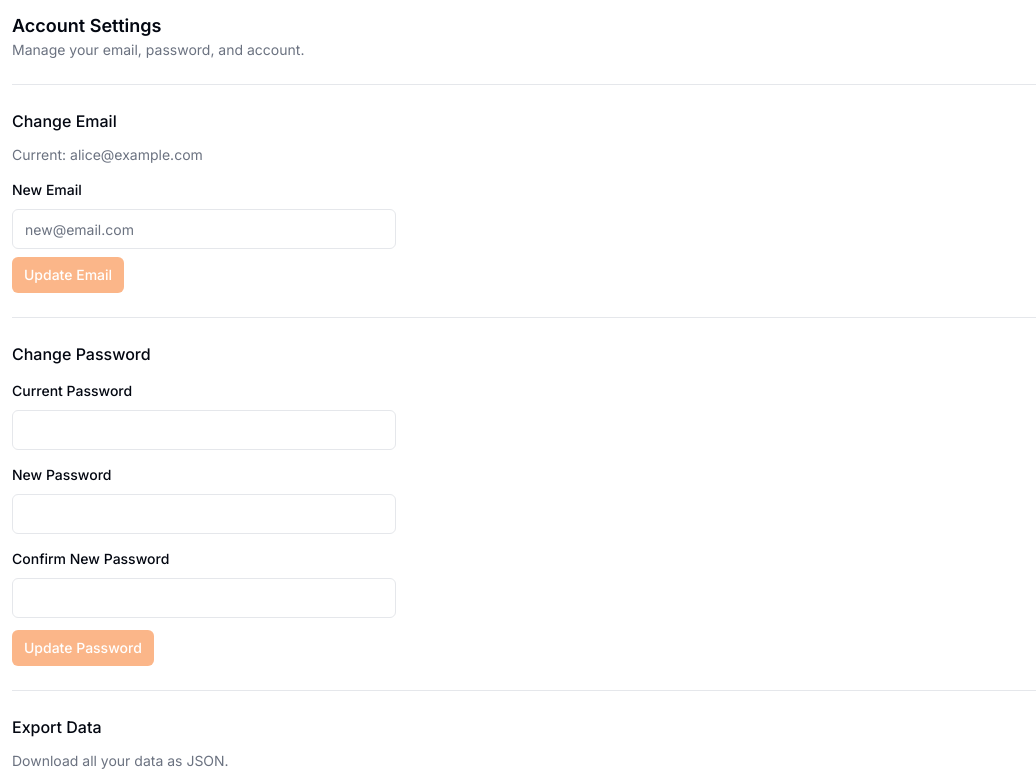
Scenario: AccountSettings › shows password strength indicator when password entered
The image size is (1036, 780).
Type "Str0ng!Pass@123" into the password field labelled "New Password".
click(204, 514); type("Str0ng!Pass@123")  # box x1=12 y1=494 x2=396 y2=534
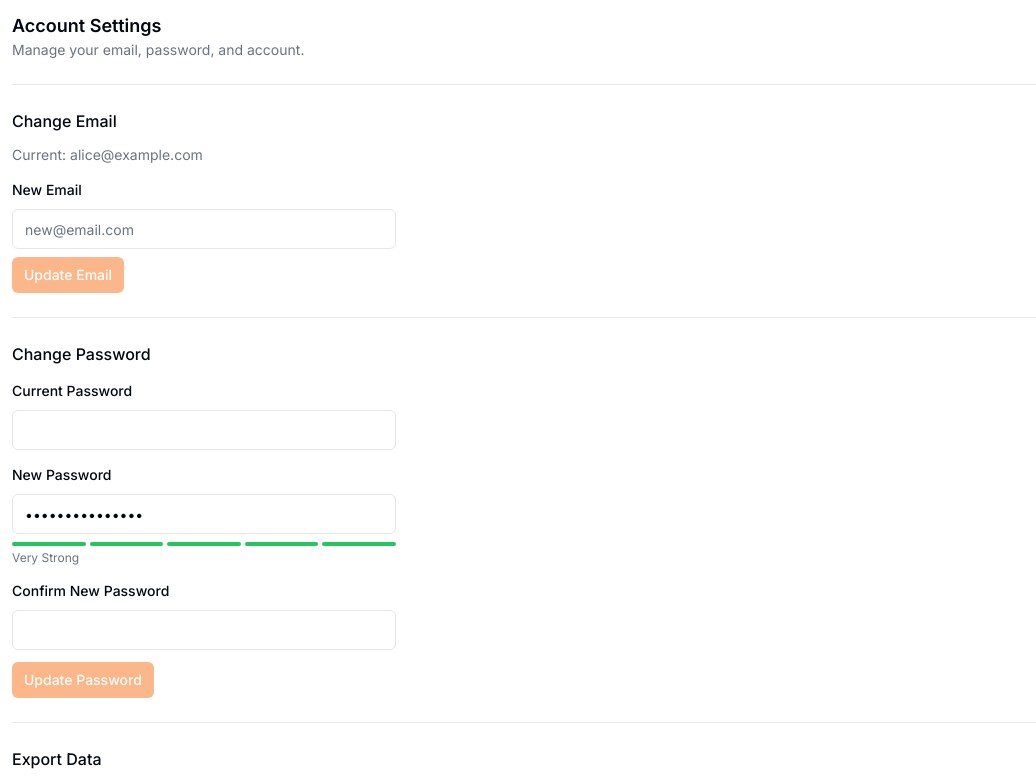
Expected: the text "Very Strong" is shown, x1=12 y1=550 x2=79 y2=565
